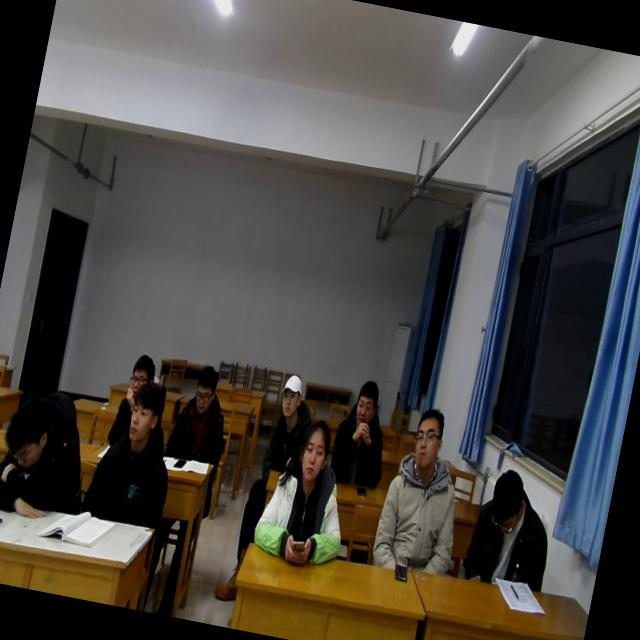bow: (0, 380, 102, 532)
down: (482, 462, 532, 538), (188, 361, 222, 418), (171, 448, 188, 471)
lookup: (122, 376, 170, 449), (404, 404, 450, 477), (292, 416, 336, 487), (348, 373, 382, 430), (124, 344, 160, 396), (275, 368, 308, 423)
sit: (248, 412, 365, 576), (369, 402, 476, 580), (80, 374, 188, 534), (458, 462, 564, 592), (326, 376, 400, 494), (166, 361, 240, 468), (259, 371, 324, 476), (108, 348, 158, 448)
